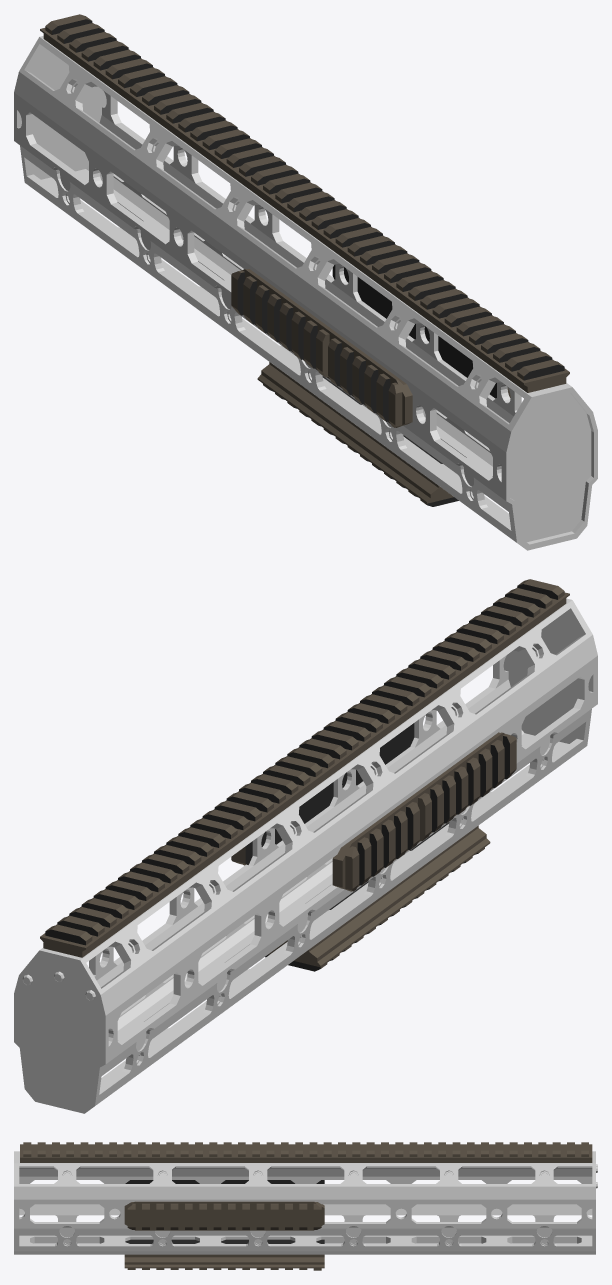
The model's file is SM_LPAMG_MR22_Forestock_Default.fbx.
3 renders of one model, top to bottom at view 1: azimuth 30°, elevation 25°; view 2: azimuth 150°, elevation 25°; view 3: azimuth 270°, elevation 25°, orthographic. The views are drawn at different scales.
Visible parts, largest first — view 1: SM_MR22_Forestock_Default; view 2: SM_MR22_Forestock_Default; view 3: SM_MR22_Forestock_Default.
Part boxes in pixels (left/top/right/bottom): SM_MR22_Forestock_Default: left=14, top=14, right=597, bottom=550; SM_MR22_Forestock_Default: left=14, top=579, right=597, bottom=1113; SM_MR22_Forestock_Default: left=14, top=1142, right=597, bottom=1270.
Bounding box in the file's own units: 5.26 × 8.23 × 37.08.
